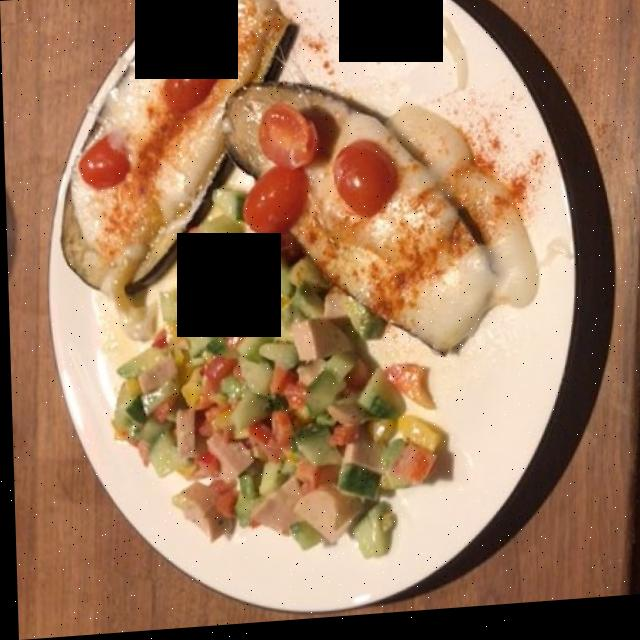cucumber: (118, 208, 402, 566)
eggplant: (39, 0, 508, 341)
goat-cheese-soft: (72, 0, 532, 327)
tomato-raw: (74, 46, 396, 225)
